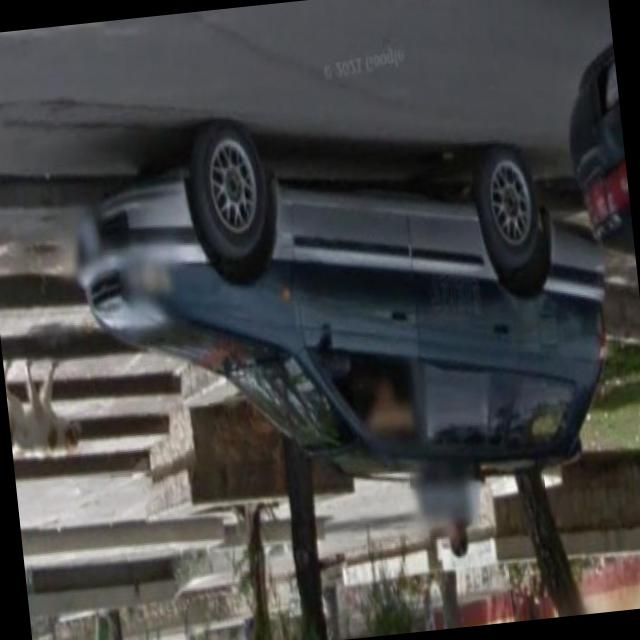car: (60, 96, 626, 510)
